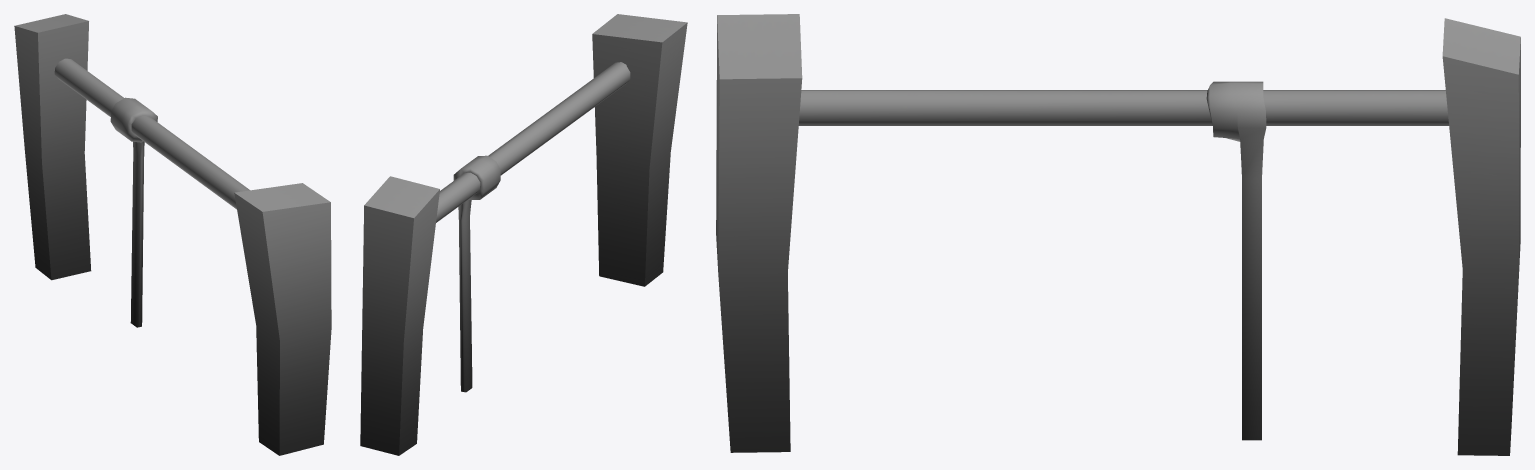
Rendered from WellWood_MESH_01.fbx.
3 views of the same model, side by side, from view 1: azimuth 30°, elevation 25°; view 2: azimuth 150°, elevation 25°; view 3: azimuth 270°, elevation 25° (orthographic). The views are drawn at different scales.
Visible parts, largest first — view 1: WellWood_MESH_01; view 2: WellWood_MESH_01; view 3: WellWood_MESH_01.
Part boxes in pixels (x1,y1,x2,y2): WellWood_MESH_01: (14, 14, 331, 455); WellWood_MESH_01: (360, 14, 687, 455); WellWood_MESH_01: (716, 14, 1520, 455).
Bounding box in the file's own units: 73.5 × 251 × 466.
